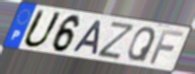6: (50, 13, 84, 54)
A: (71, 19, 104, 56)
F: (148, 28, 186, 66)
Q: (126, 26, 158, 63)
U: (21, 8, 64, 50)
Z: (95, 20, 138, 62)
